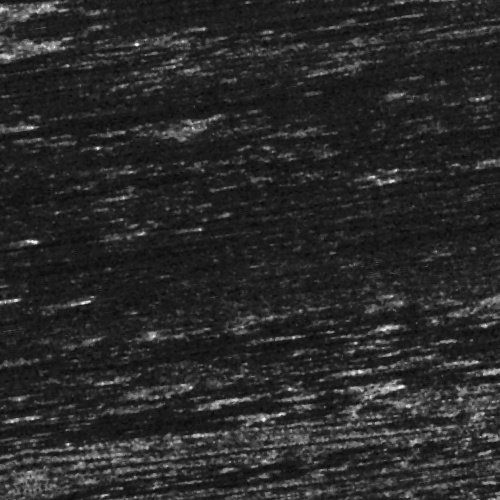object: (299, 395, 392, 412), (440, 324, 500, 337), (32, 12, 105, 21), (5, 202, 68, 211), (168, 388, 231, 397), (346, 338, 409, 347)
shadow: (81, 395, 345, 412), (0, 338, 377, 347), (302, 324, 497, 337), (14, 388, 199, 397), (0, 12, 68, 21), (0, 202, 37, 211)
